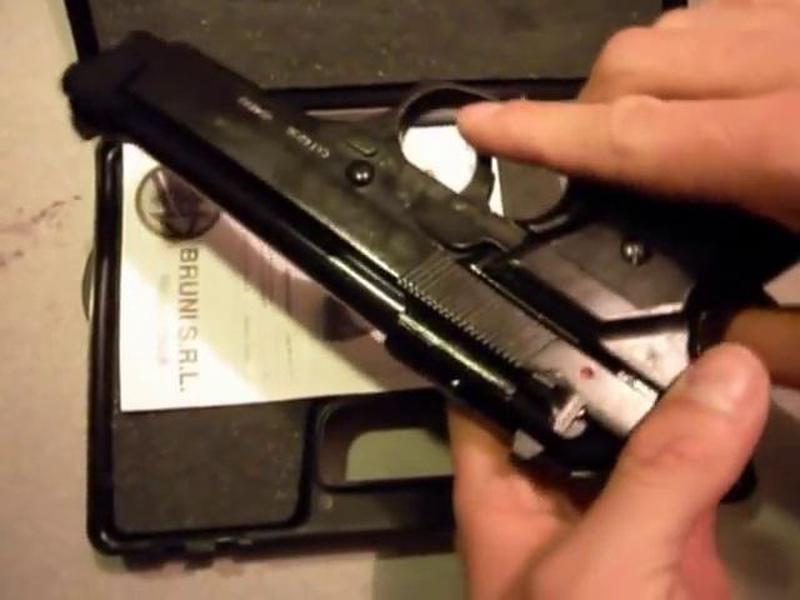Pistola: (32, 45, 785, 496)
